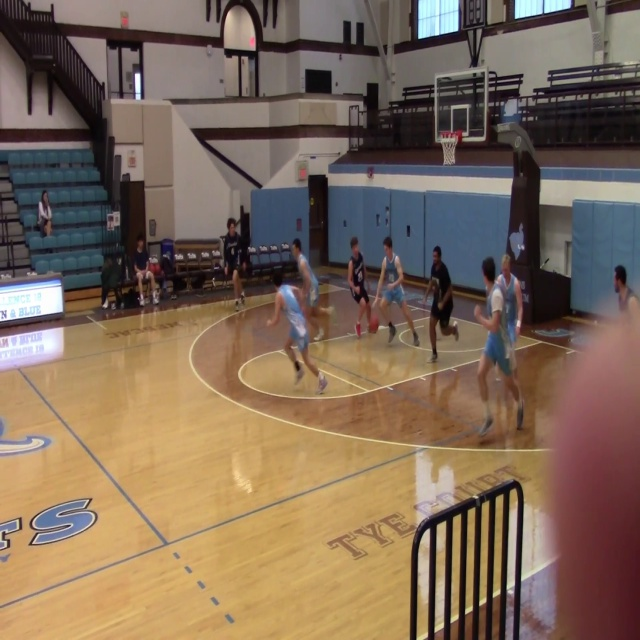Basketball: (367, 315, 379, 333)
